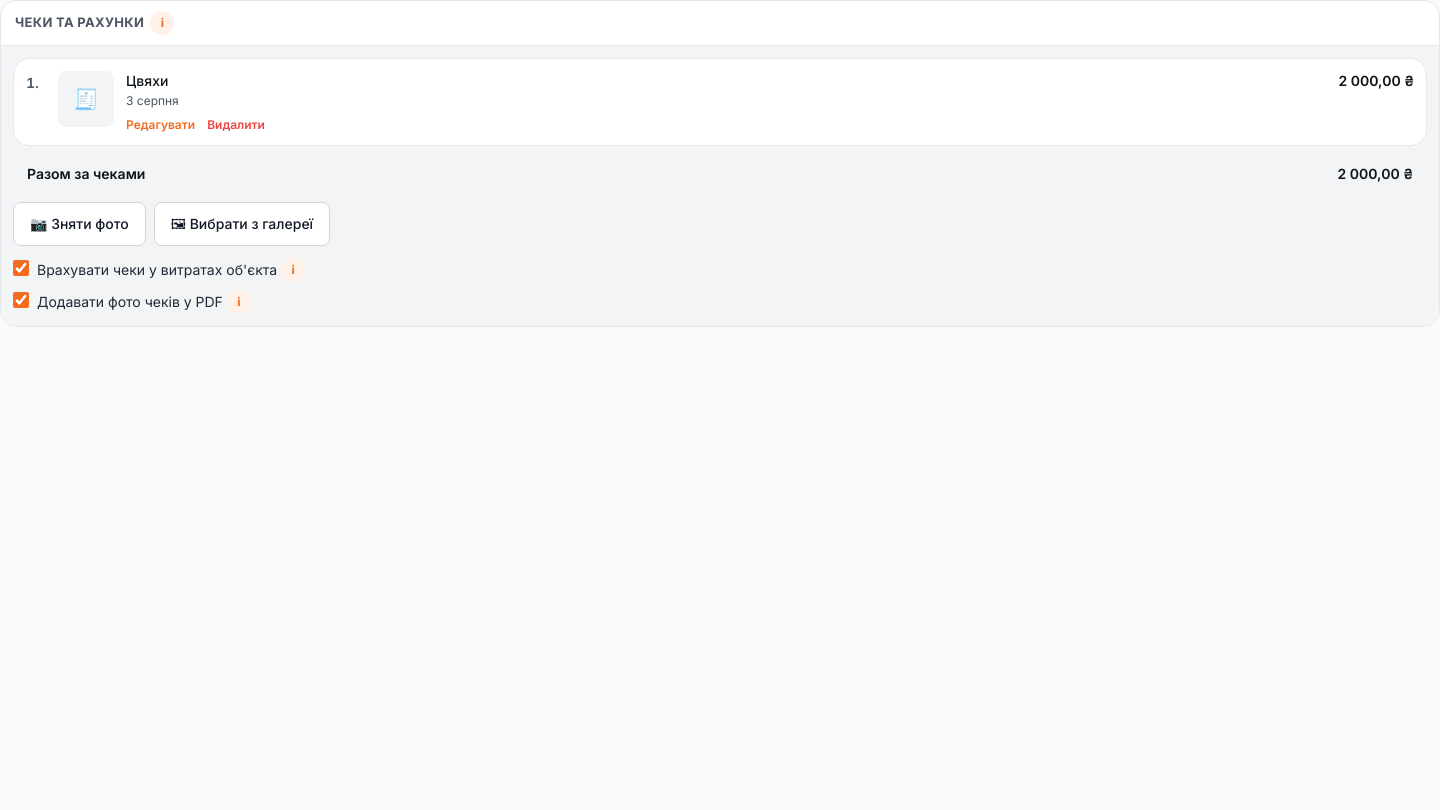
Scenario: ActReceiptsSection › the edit dialog refuses a return bigger than the receipt and shows what is left to pay
This screenshot has width=1440, height=810.
Click the button "Редагувати" at (161,125), box [126,117,195,133]
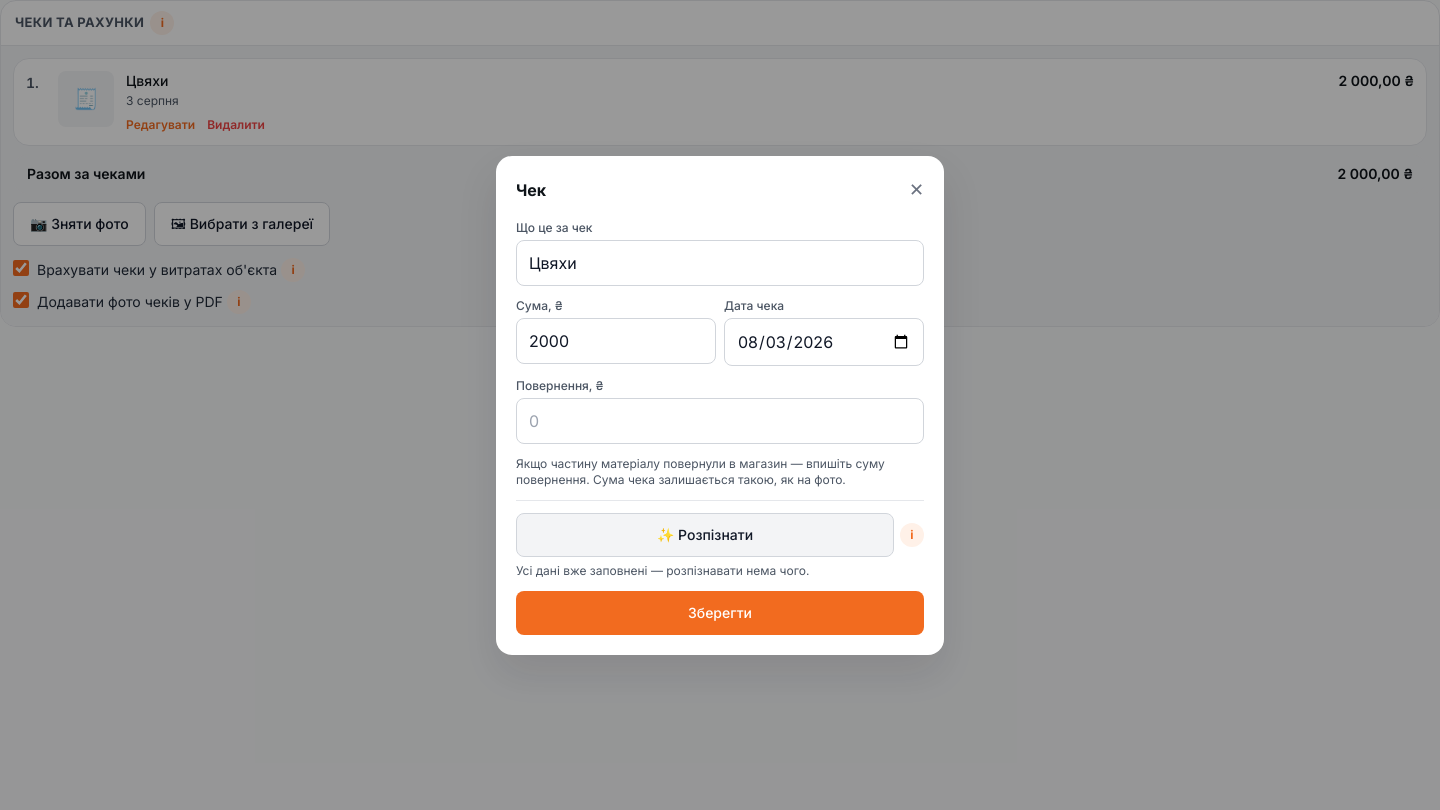
Type "2500" into the field with placeholder "0" at (720,420), box [516,398,924,444]
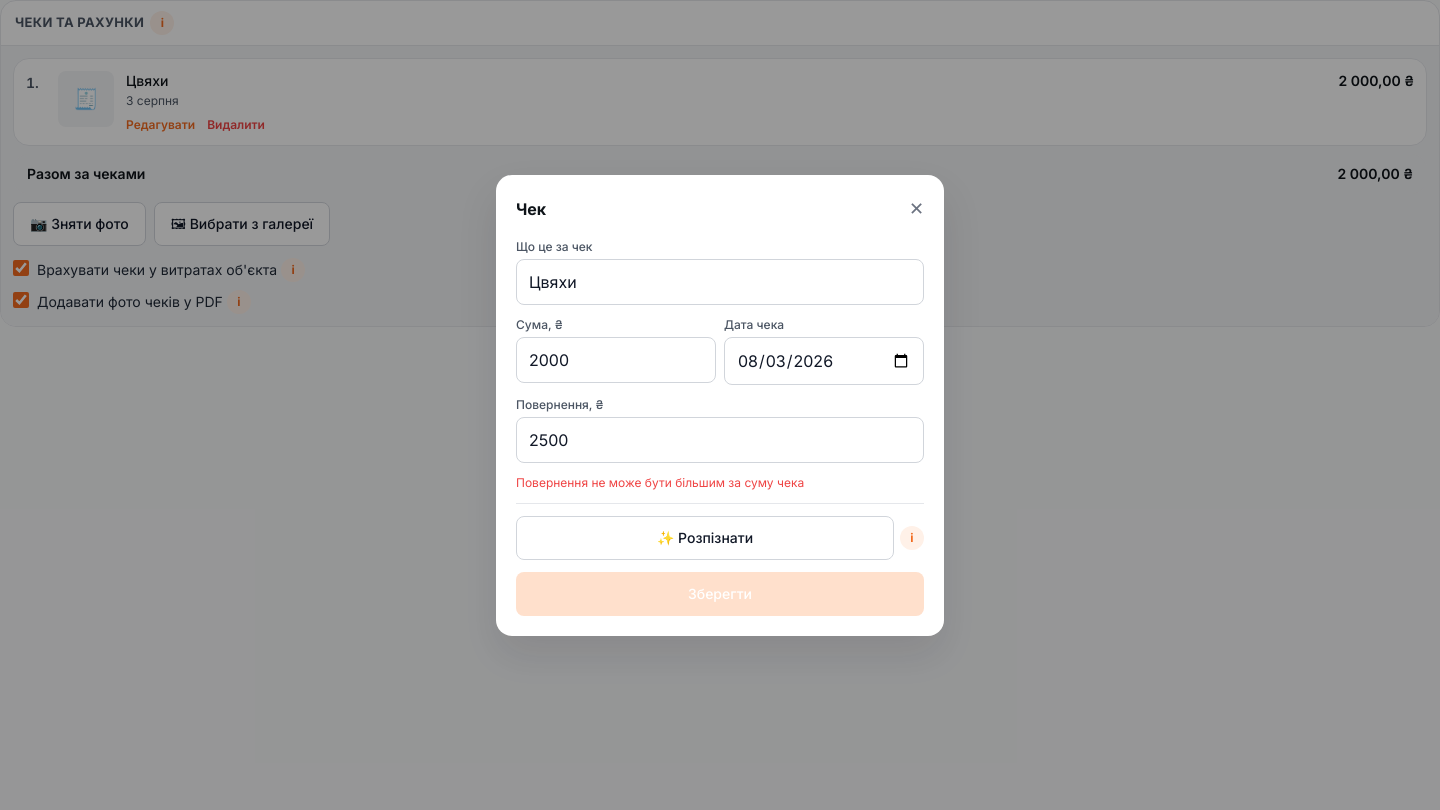
expect the text "Повернення не може бути більшим за суму чека" is shown: met, box [516,474,804,490]
expect the button "Зберегти" is disabled: met, box [516,572,924,616]
Replace the text in the field with placeholder "0" with "500" at (720,440), box [516,416,924,462]
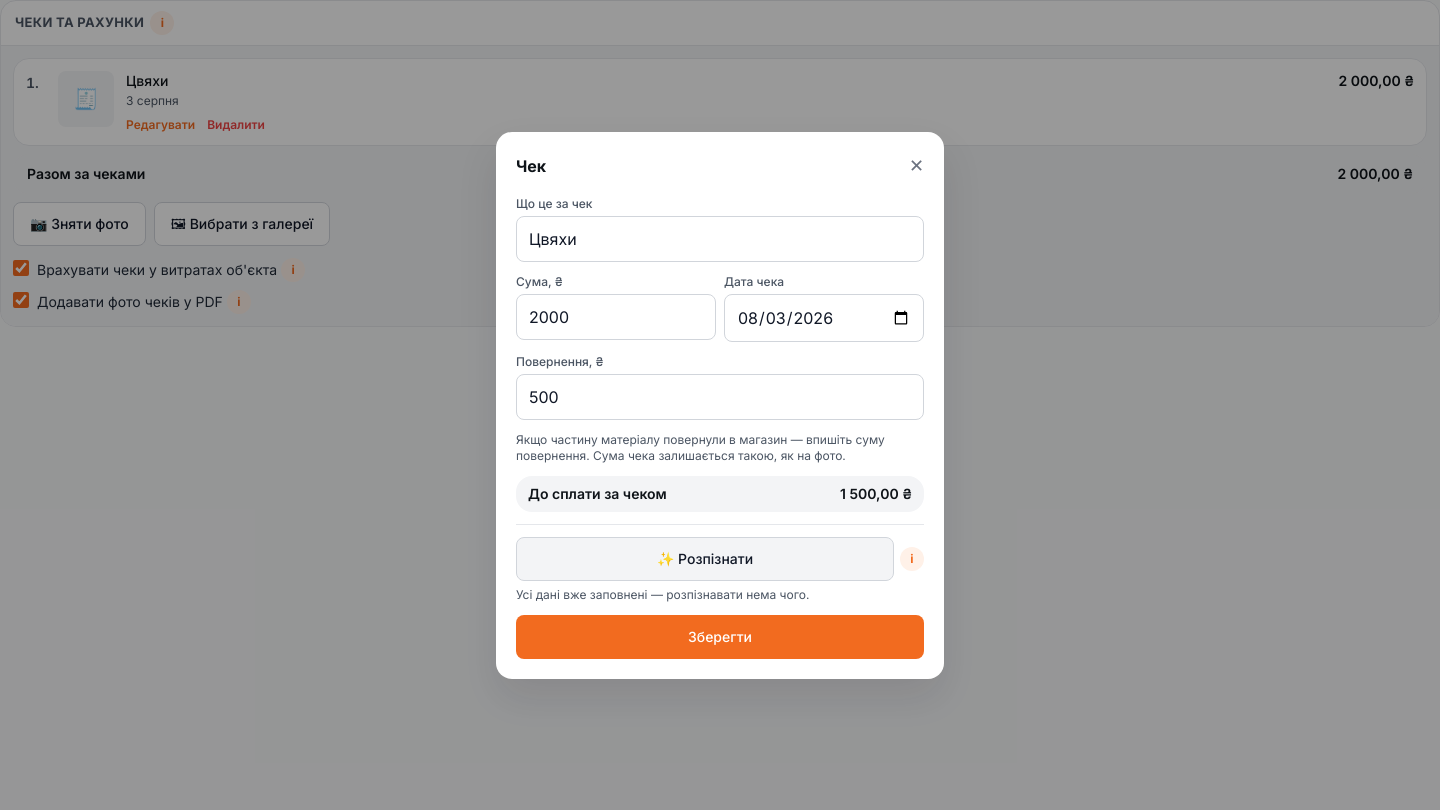
expect the text "Повернення не може бути більшим" is gone: met
